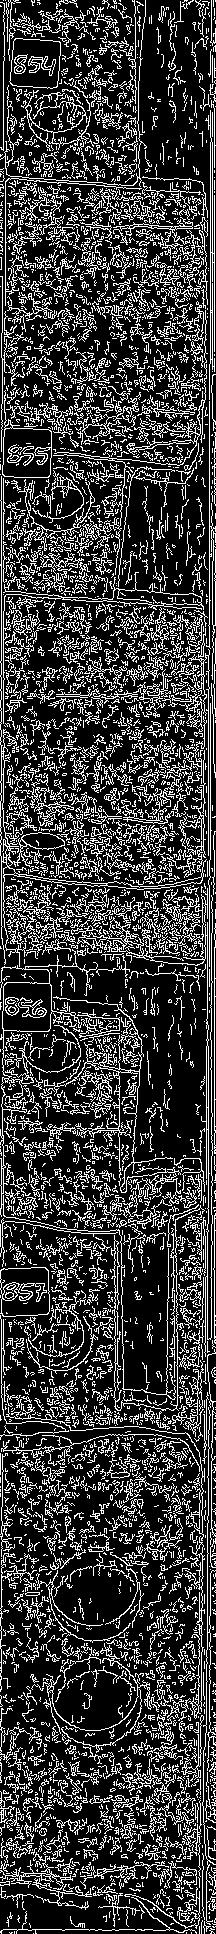hplug: (15, 1016, 91, 1088), (21, 1302, 93, 1374), (21, 80, 98, 146), (21, 466, 98, 532)
scal: (44, 1652, 149, 1750), (47, 1544, 149, 1644)
vplug: (125, 1, 215, 200), (109, 1210, 185, 1413), (111, 456, 207, 614), (111, 1018, 193, 1198)
